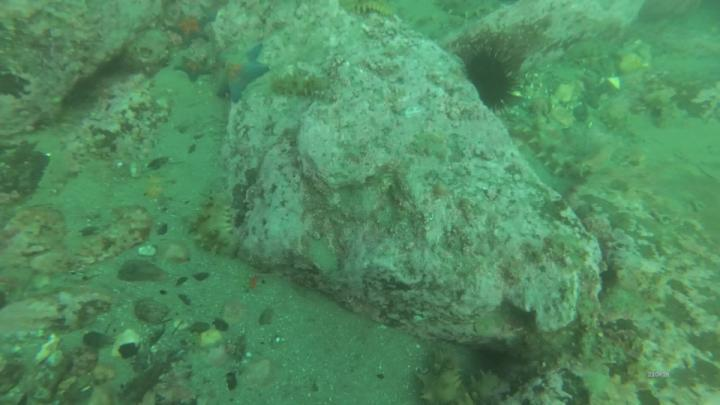echinus: (468, 56, 510, 112)
holothurian: (423, 351, 502, 405), (534, 118, 586, 177), (198, 193, 239, 249), (275, 74, 326, 100)
starfish: (216, 47, 267, 104), (168, 11, 211, 44), (178, 57, 210, 81)
